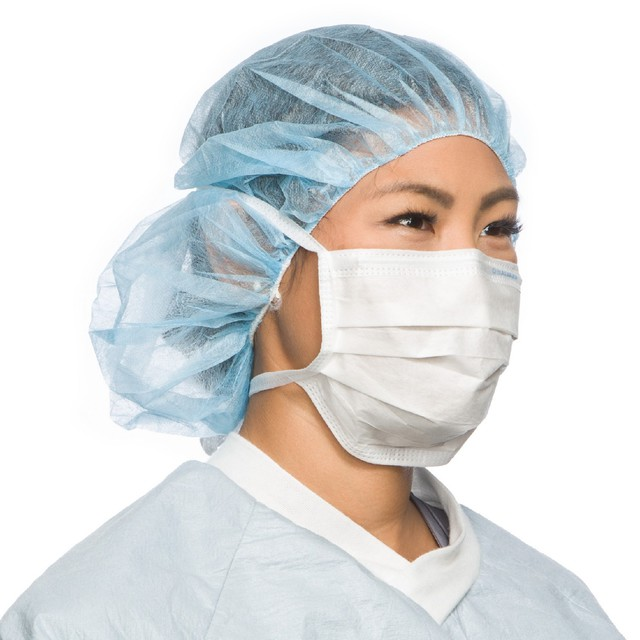mask: (315, 263, 536, 454)
